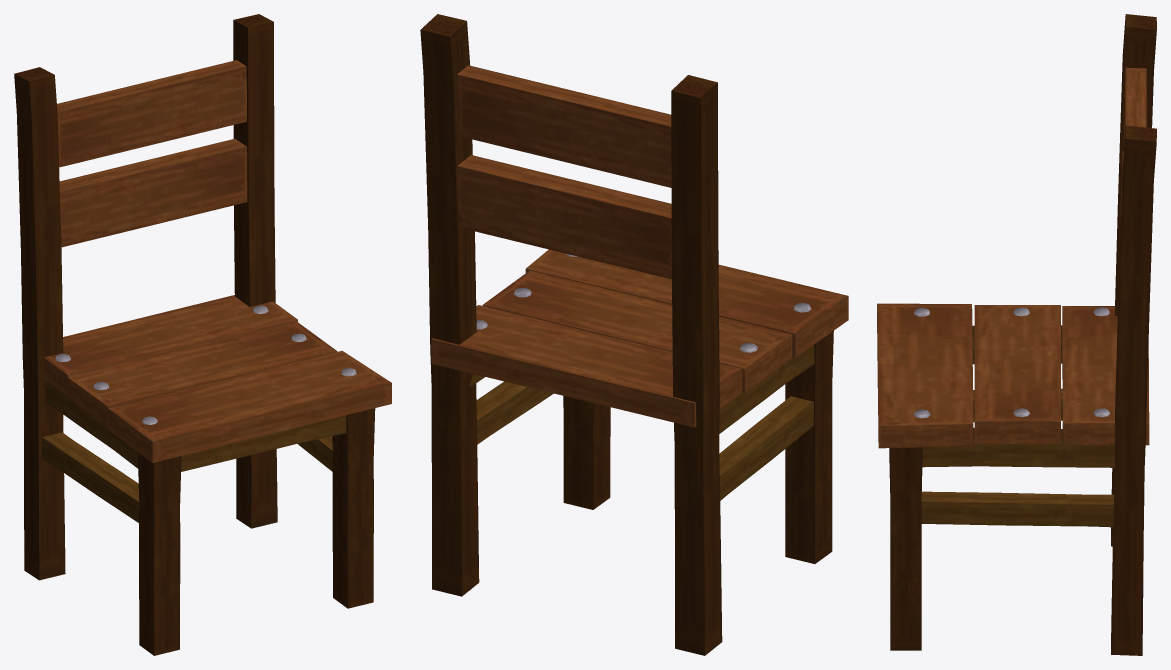
The model's file is Chair_1.glb.
3 views of the same model, side by side, from view 1: azimuth 30°, elevation 25°; view 2: azimuth 150°, elevation 25°; view 3: azimuth 270°, elevation 25° (orthographic). The views are drawn at different scales.
Parts seen in each view (by area): view 1: Chair_1; view 2: Chair_1; view 3: Chair_1.
Part boxes in pixels (x1,y1,x2,y2): Chair_1: (14, 14, 391, 655); Chair_1: (420, 14, 848, 655); Chair_1: (877, 14, 1156, 655).
Bounding box in the file's own units: 0.5805 × 1.12 × 0.5489.
Materials: 2 (2 with a texture image).
